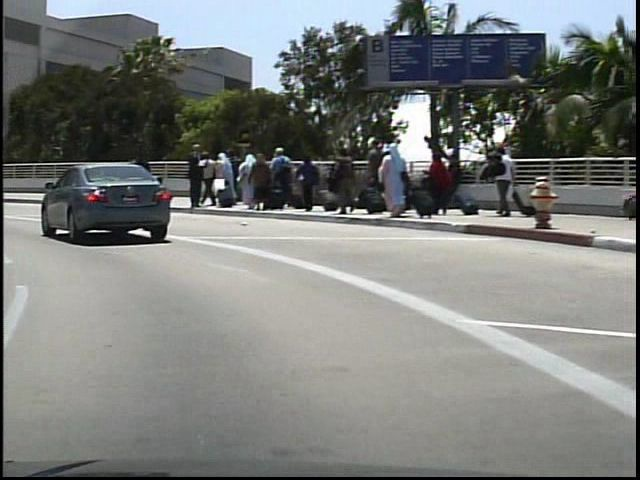person: (487, 140, 515, 222), (120, 149, 148, 212), (182, 141, 205, 212), (192, 149, 215, 209), (134, 153, 153, 196)
